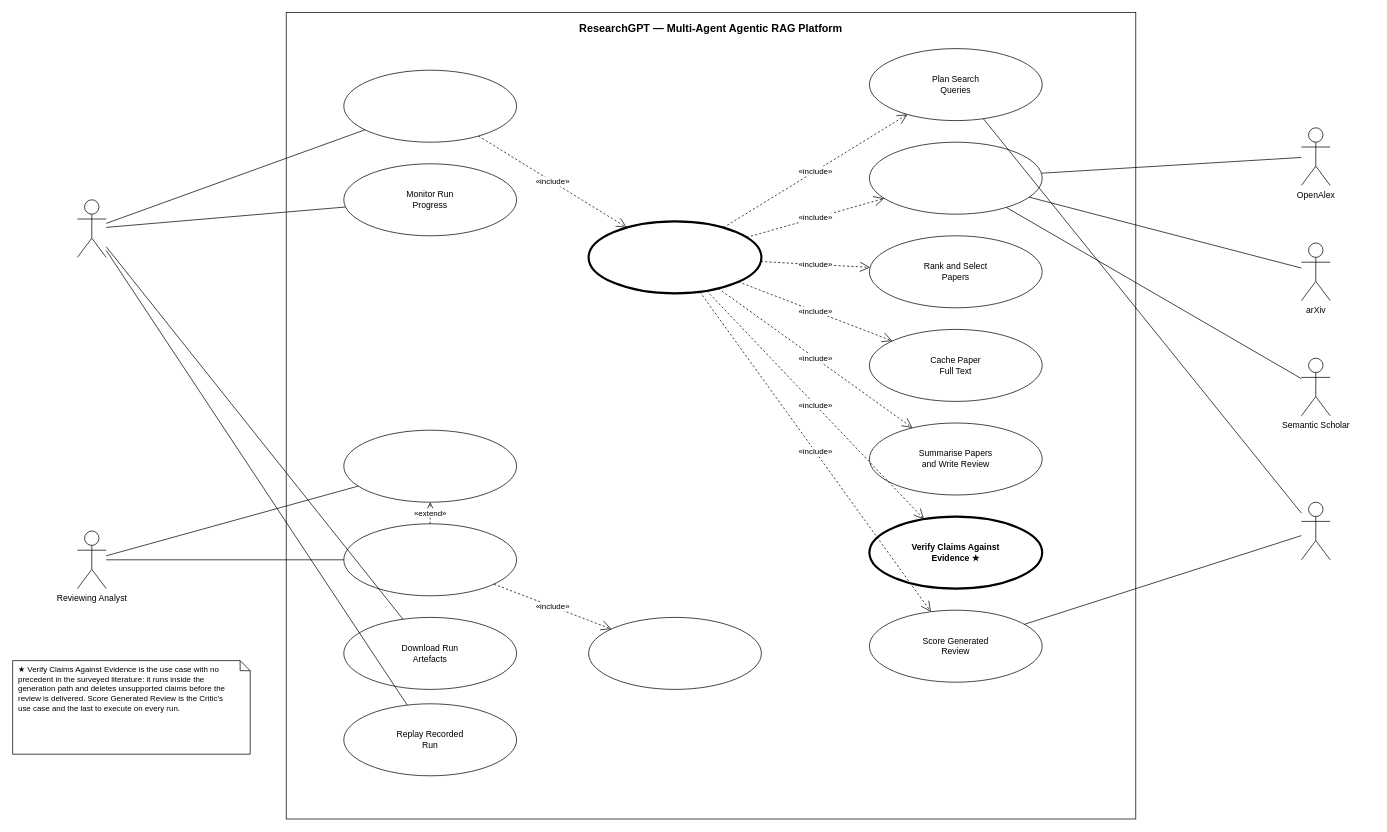
Some shapes in this 1387 by 832 pixel diagram are drawn without their labels. Here are the shapes that lost their labels. From the top down, the centre of each, then its label:
At (430,105): "Submit Research Question".
At (955,177): "Retrieve Candidate Papers".
At (91,228): "Researcher".
At (674,257): "Generate Literature Review".
At (430,465): "Inspect Claim Evidence".
At (1315,530): "Self-hosted open-weight model".
At (430,559): "Override Dropped Claim".
At (674,653): "Record Verdict in Audit Trace".
